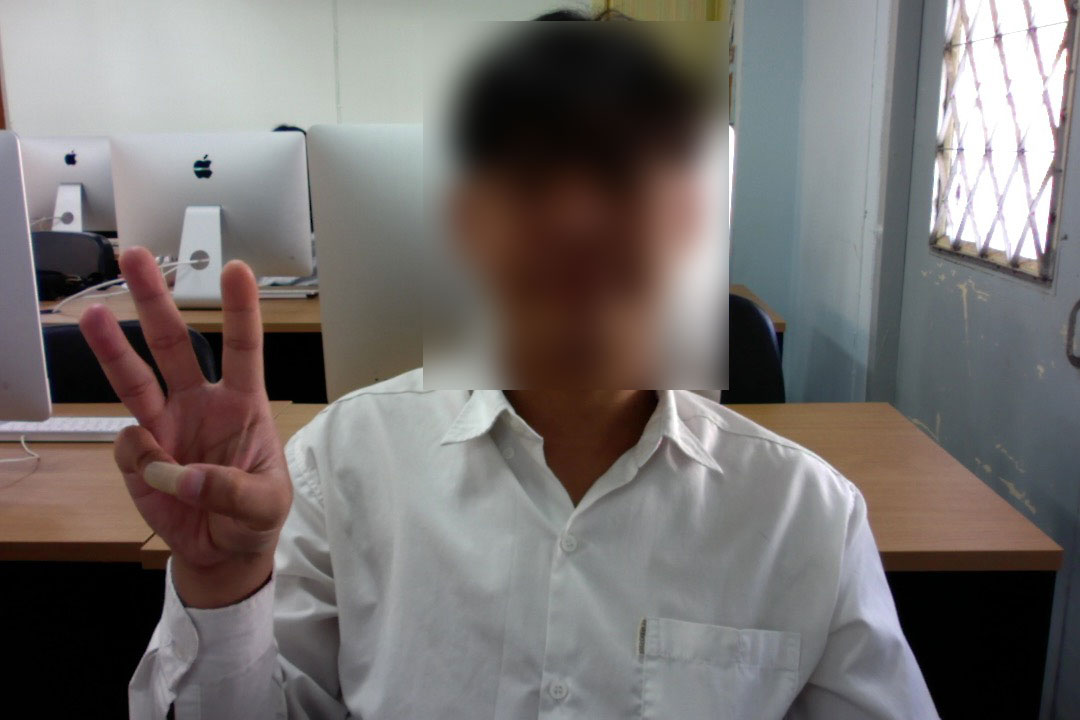wor: (61, 241, 308, 594)
